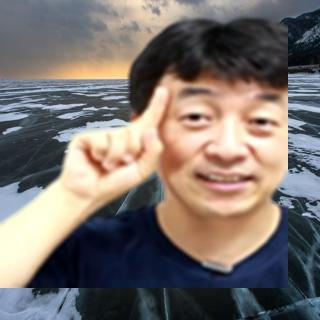IRRITATED: (56, 83, 171, 208)
